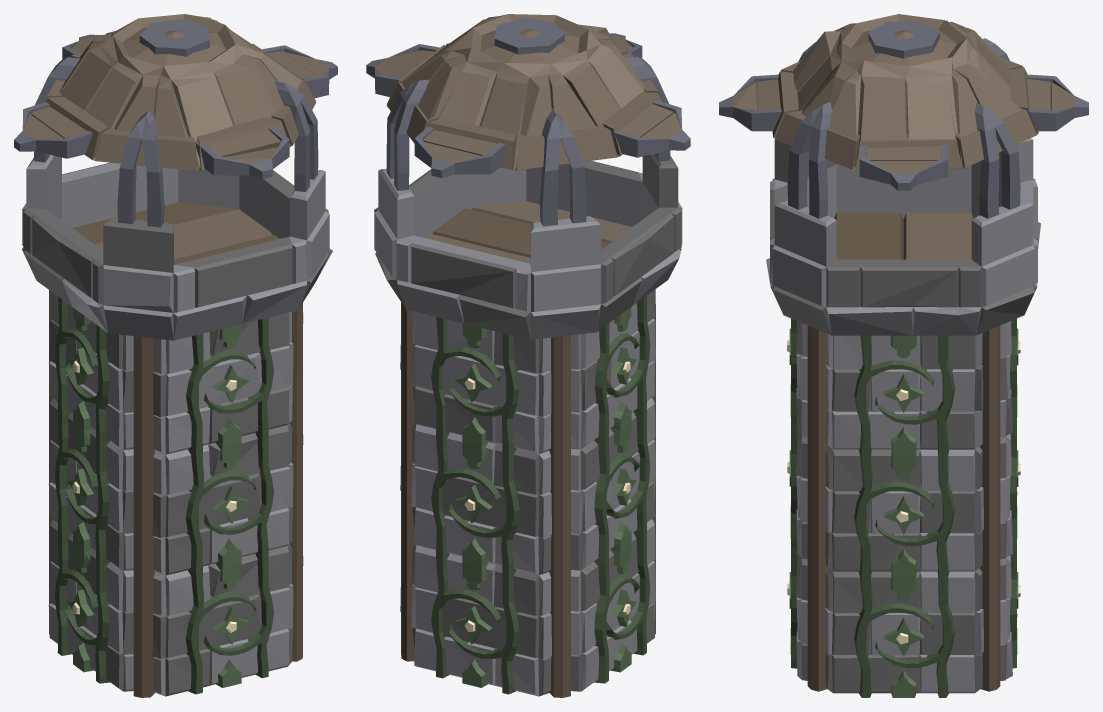
Rendered from tower_5_full.fbx.
3 renders of one model, left to right at view 1: azimuth 30°, elevation 25°; view 2: azimuth 150°, elevation 25°; view 3: azimuth 270°, elevation 25°, orthographic.
Visible parts, largest first — view 1: TOWER_5_UP_01, TOWER_5_BASE_01, TOWER_5_BASE_02; view 2: TOWER_5_UP_01, TOWER_5_BASE_01, TOWER_5_BASE_02; view 3: TOWER_5_UP_01, TOWER_5_BASE_02, TOWER_5_BASE_01.
Part boxes in pixels (<box>): TOWER_5_UP_01: <box>14,14,337,456</box>; TOWER_5_BASE_01: <box>48,513,303,697</box>; TOWER_5_BASE_02: <box>48,392,303,576</box>; TOWER_5_UP_01: <box>366,14,690,455</box>; TOWER_5_BASE_01: <box>400,513,655,697</box>; TOWER_5_BASE_02: <box>400,392,655,576</box>; TOWER_5_UP_01: <box>719,14,1088,454</box>; TOWER_5_BASE_02: <box>787,411,1020,576</box>; TOWER_5_BASE_01: <box>787,533,1020,697</box>.
Bounding box in the file's own units: 942 × 1735 × 942.
